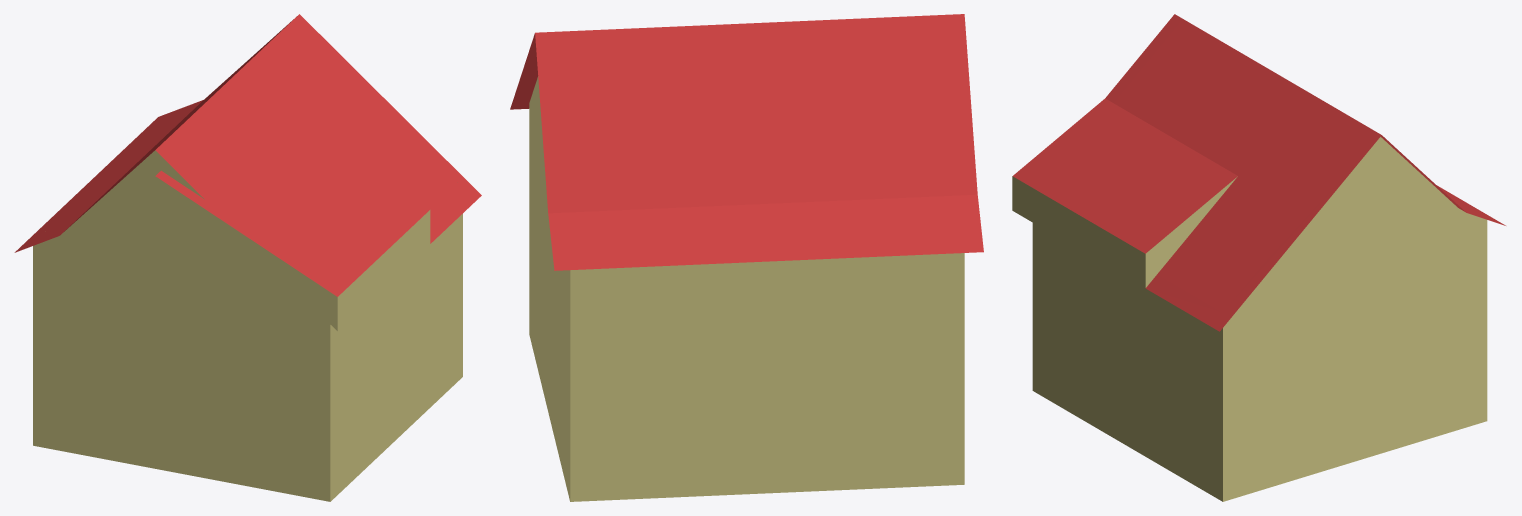
3 views of the same model, side by side, from view 1: azimuth 30°, elevation 25°; view 2: azimuth 150°, elevation 25°; view 3: azimuth 270°, elevation 25° (orthographic). The views are drawn at different scales.
Size of the model in its own units: 17.18 by 17.19 by 12.49.
